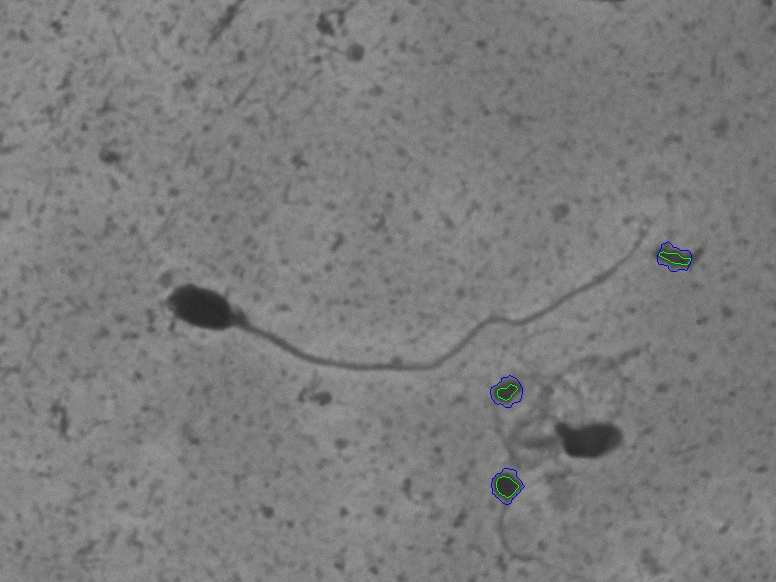Normal: (92, 186, 670, 380)
